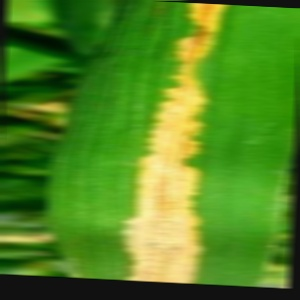Leaf_Blast: (62, 0, 276, 282)
